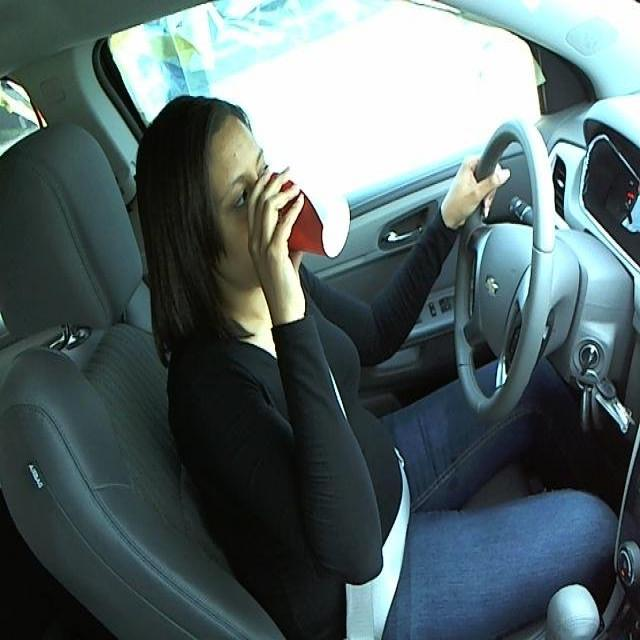drinking: (254, 174, 350, 257)
